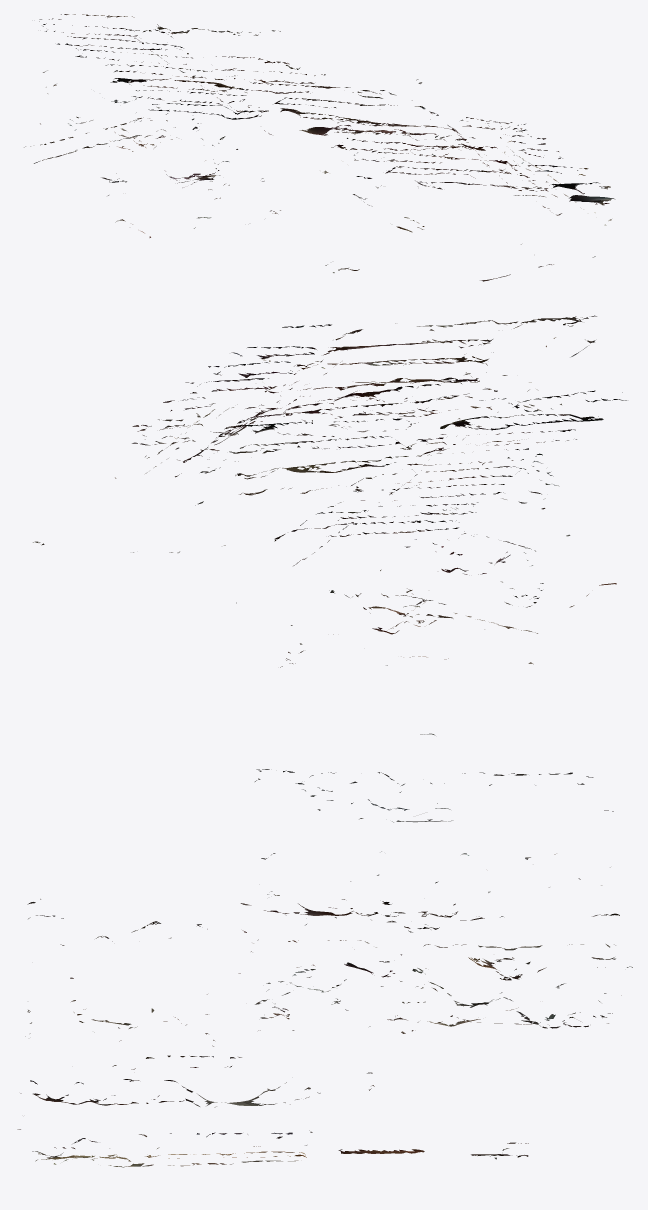
File: esc_baja_techo_03.glb
3 renders of one model, top to bottom at view 1: azimuth 30°, elevation 25°; view 2: azimuth 150°, elevation 25°; view 3: azimuth 270°, elevation 25°, orthographic. The views are drawn at different scales.
Parts seen in each view (by area): view 1: techo_Salon_y_porche_3_GLTF_13, techo_Salon_y_porche_3_GLTF_12, techo_Salon_y_porche_3_GLTF_11, techo_Salon_y_porche_3_GLTF_10; view 2: techo_Salon_y_porche_3_GLTF_13, techo_Salon_y_porche_3_GLTF_12, techo_Salon_y_porche_3_GLTF_11, techo_Salon_y_porche_3_GLTF_4, techo_Salon_y_porche_3_GLTF_9; view 3: techo_Salon_y_porche_3_GLTF_11, techo_Salon_y_porche_3_GLTF_12, techo_Salon_y_porche_3_GLTF_10.
Boxes of the visible parts, <box> form: techo_Salon_y_porche_3_GLTF_13: <box>34,31,615,237</box>; techo_Salon_y_porche_3_GLTF_12: <box>24,21,610,272</box>; techo_Salon_y_porche_3_GLTF_11: <box>40,36,611,270</box>; techo_Salon_y_porche_3_GLTF_10: <box>58,14,548,189</box>; techo_Salon_y_porche_3_GLTF_13: <box>135,323,616,634</box>; techo_Salon_y_porche_3_GLTF_12: <box>132,352,626,660</box>; techo_Salon_y_porche_3_GLTF_11: <box>203,316,582,659</box>; techo_Salon_y_porche_3_GLTF_4: <box>179,349,536,644</box>; techo_Salon_y_porche_3_GLTF_9: <box>159,347,571,665</box>; techo_Salon_y_porche_3_GLTF_11: <box>30,774,549,1164</box>; techo_Salon_y_porche_3_GLTF_12: <box>74,775,615,1167</box>; techo_Salon_y_porche_3_GLTF_10: <box>131,769,619,1159</box>.
Bounding box in the file's own units: 10.42 × 4.11 × 11.45.
Materials: 14 (14 with a texture image).
